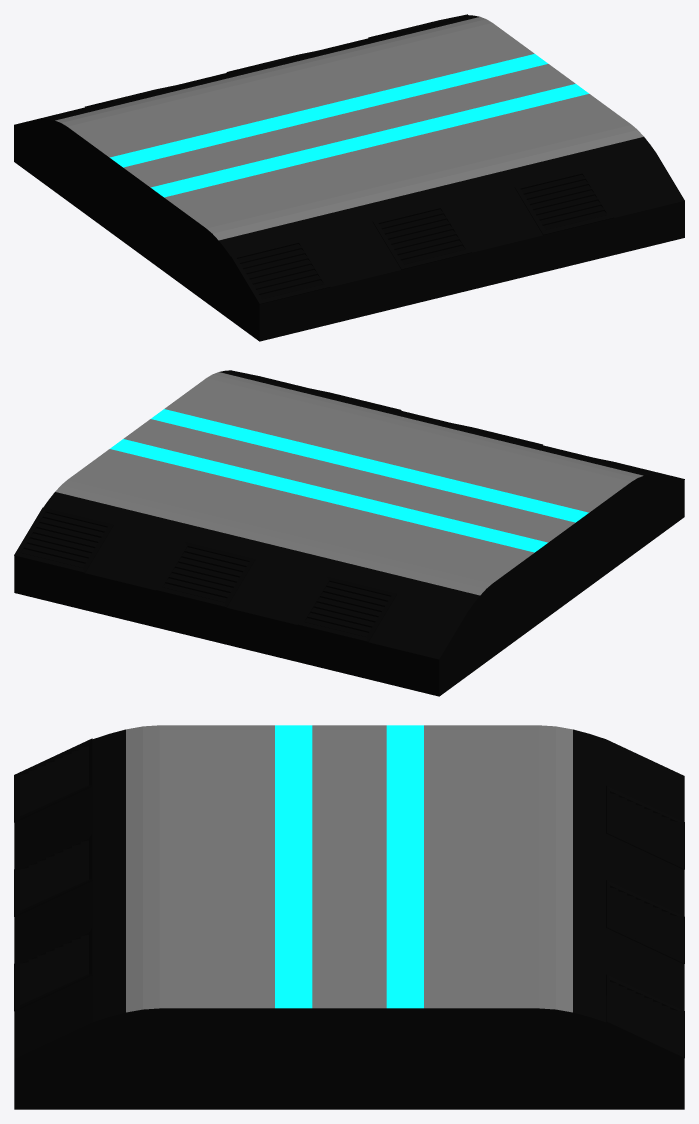
File: pathStraightCurved.fbx
3 renders of one model, top to bottom at view 1: azimuth 30°, elevation 25°; view 2: azimuth 150°, elevation 25°; view 3: azimuth 270°, elevation 25°, orthographic. The views are drawn at different scales.
Parts seen in each view (by area): view 1: Plane; view 2: Plane; view 3: Plane.
Boxes of the visible parts, box(x1,y1,x2,y2) form: Plane: box(14, 14, 684, 341); Plane: box(14, 370, 684, 696); Plane: box(14, 725, 684, 1109).
Bounding box in the file's own units: 600 × 100 × 601.
